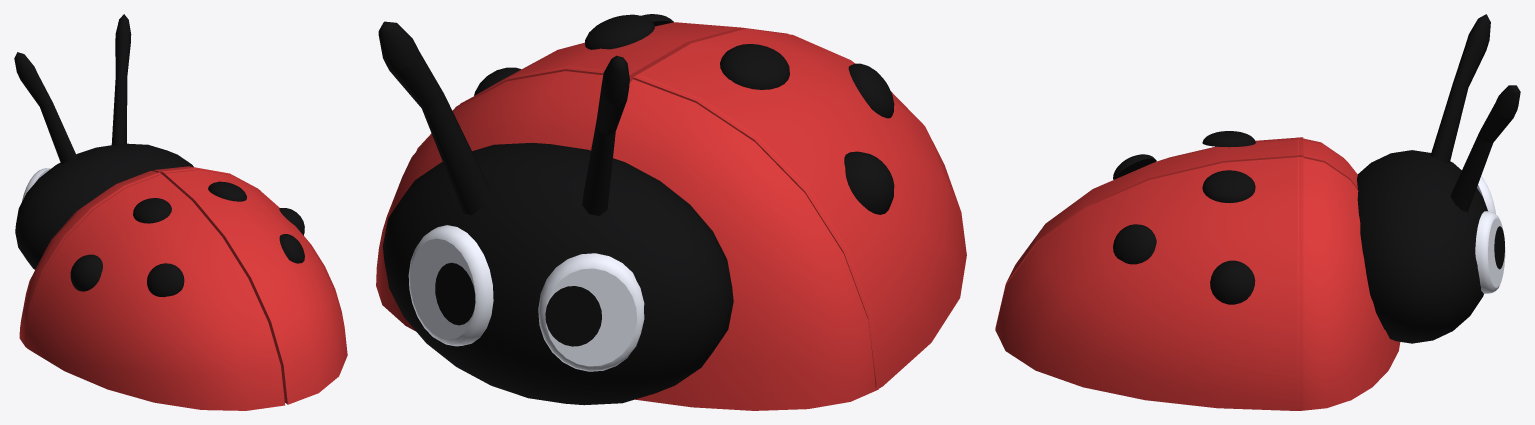
Rendered from lady_bug.glb.
The picture shows the model from 3 angles, left to right: view 1: azimuth 30°, elevation 25°; view 2: azimuth 150°, elevation 25°; view 3: azimuth 270°, elevation 25°; orthographic projection. The views are drawn at different scales.
Visible parts, largest first — view 1: mergedBlocks(Clone); view 2: mergedBlocks(Clone); view 3: mergedBlocks(Clone).
Part boxes in pixels (bbox=[...]): mergedBlocks(Clone): bbox=[14, 14, 347, 410]; mergedBlocks(Clone): bbox=[376, 14, 966, 410]; mergedBlocks(Clone): bbox=[995, 14, 1520, 410].
Size of the model in its own units: 3.03 by 2.37 by 4.12.
